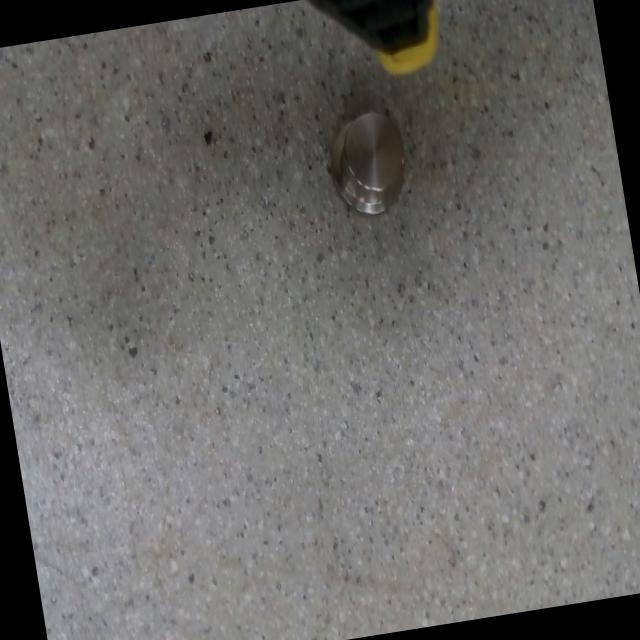sensor: (318, 104, 416, 223)
